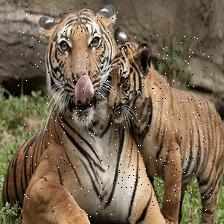tiger: (18, 4, 121, 219), (98, 36, 213, 212)
